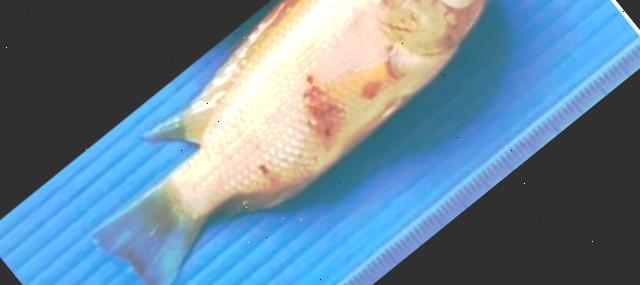Tilapia Lake Virus -TiLV-: (96, 0, 485, 285), (96, 0, 483, 285)
